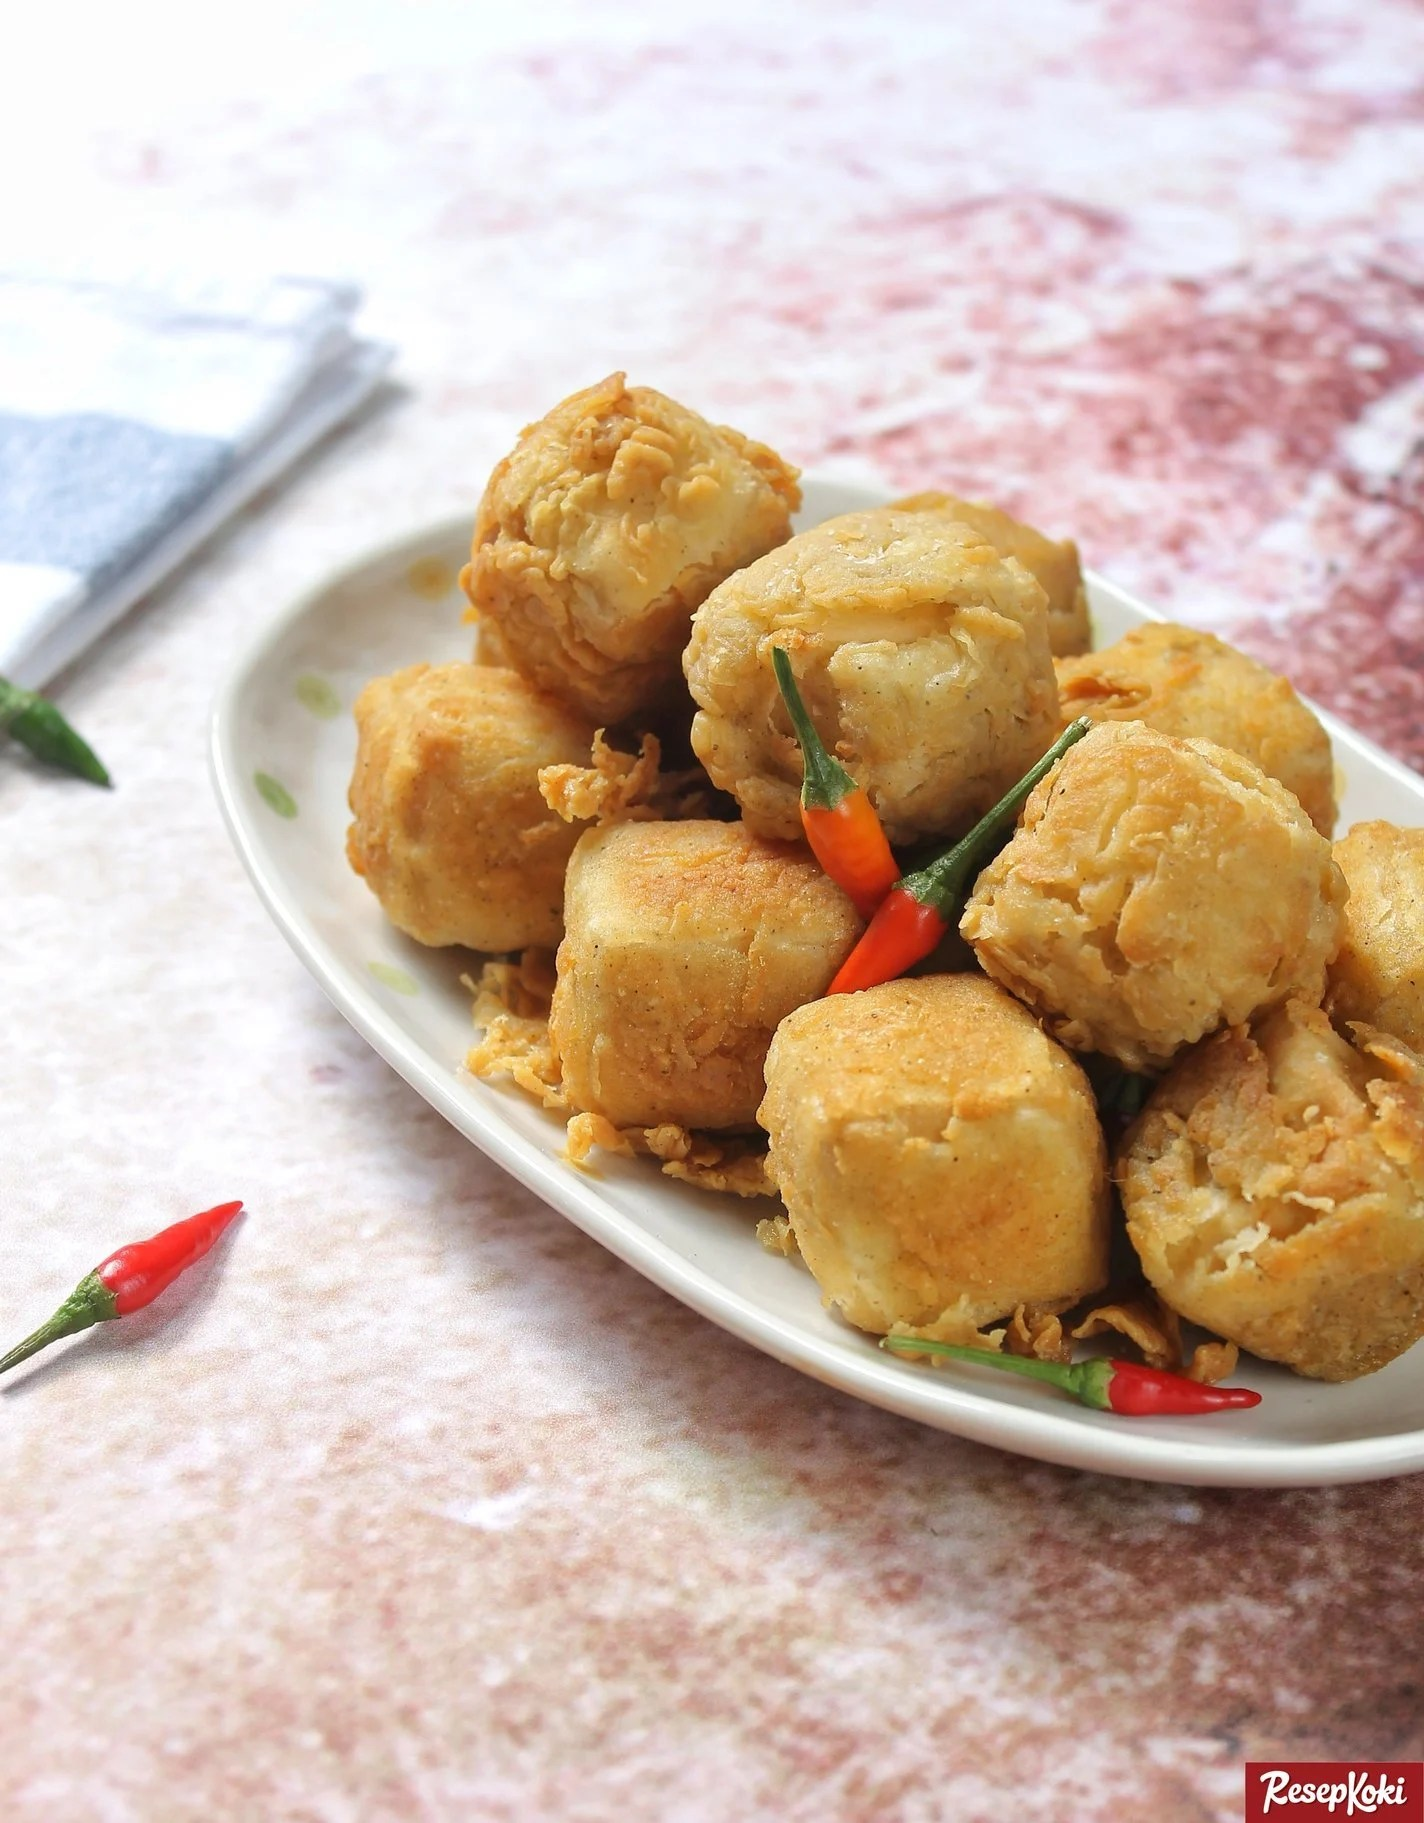Tahu: (678, 502, 1063, 840), (746, 996, 1107, 1298), (363, 633, 617, 943), (537, 809, 842, 1062), (521, 405, 786, 667), (1024, 759, 1257, 947)
